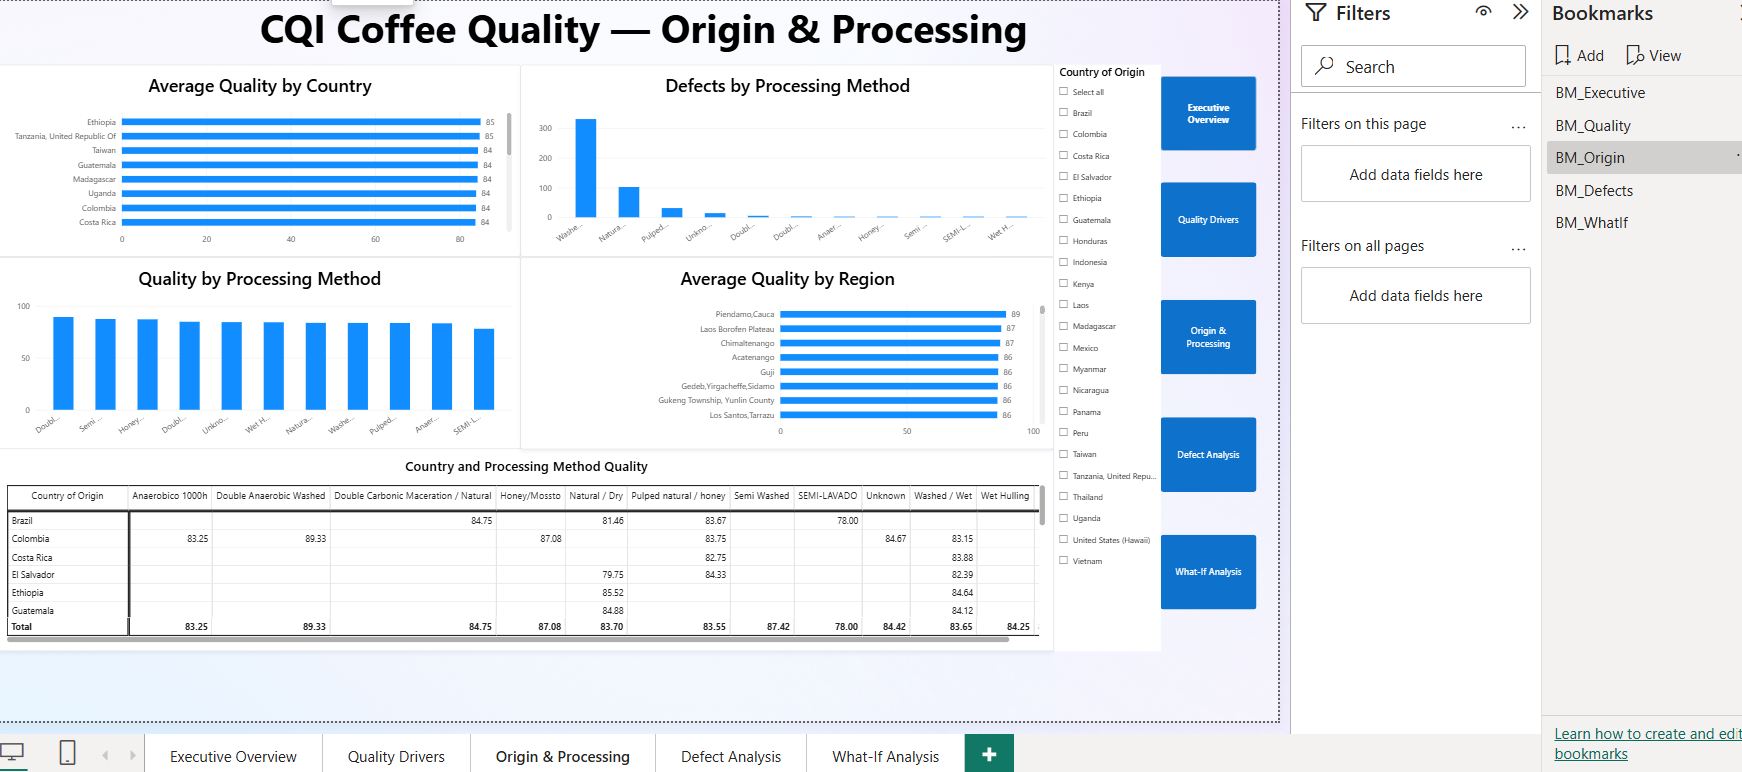

Layout of this report page (visuals, bound fields, positions):
{"tool":"powerbi","page":{"name":"Origin & Processing","canvas":[1920,1080],"ordinal":2},"visuals":[{"type":"clusteredBarChart","title":"Average Quality by Country","fields":{"Category":["Coffee_Data.Country of Origin"],"Y":["Coffee_Data.AvgTotalCupPoints"]},"box":[0,96,784,288],"z":0},{"type":"clusteredColumnChart","title":"Quality by Processing Method","fields":{"Category":["Coffee_Data.Processing Method"],"Y":["Coffee_Data.AvgTotalCupPoints"]},"box":[0,384,784,288],"z":1000},{"type":"clusteredColumnChart","title":"Defects by Processing Method","fields":{"Category":["Coffee_Data.Processing Method"],"Y":["Coffee_Data.Total Defects"]},"box":[784,96,800,288],"z":2000},{"type":"pivotTable","title":"Country and Processing Method Quality","fields":{"Columns":["Coffee_Data.Processing Method"],"Rows":["Coffee_Data.Country of Origin"],"Values":["Coffee_Data.AvgTotalCupPoints"]},"box":[0,672,1584,304],"z":3000},{"type":"clusteredBarChart","title":"Average Quality by Region","fields":{"Category":["Coffee_Data.Region"],"Y":["Coffee_Data.AvgTotalCupPoints"]},"box":[784,384,800,288],"z":4000},{"type":"actionButton","box":[1744,112,144,112],"z":5000},{"type":"actionButton","box":[1744,272,144,112],"z":6000},{"type":"actionButton","box":[1744,448,144,112],"z":7000},{"type":"actionButton","box":[1744,624,144,112],"z":8000},{"type":"actionButton","box":[1744,800,144,112],"z":9000},{"type":"textbox","box":[16,0,1904,96],"z":10000},{"type":"slicer","fields":{"Values":["Coffee_Data.Country of Origin"]},"box":[1584,96,160,880],"z":11000}]}

Visuals, with their boxes on the page's 1920x1080 design canvas (x1, y1, x2, y2). These are canvas units, not pixel positions in the 1742x772 screenshot, which may show the page scaled, cropped or inside an application window:
"Average Quality by Country" clusteredBarChart: l=0, t=96, r=784, b=384
"Quality by Processing Method" clusteredColumnChart: l=0, t=384, r=784, b=672
"Defects by Processing Method" clusteredColumnChart: l=784, t=96, r=1584, b=384
"Country and Processing Method Quality" pivotTable: l=0, t=672, r=1584, b=976
"Average Quality by Region" clusteredBarChart: l=784, t=384, r=1584, b=672
actionButton: l=1744, t=112, r=1888, b=224
actionButton: l=1744, t=272, r=1888, b=384
actionButton: l=1744, t=448, r=1888, b=560
actionButton: l=1744, t=624, r=1888, b=736
actionButton: l=1744, t=800, r=1888, b=912
textbox: l=16, t=0, r=1920, b=96
slicer - Coffee_Data.Country of Origin: l=1584, t=96, r=1744, b=976
